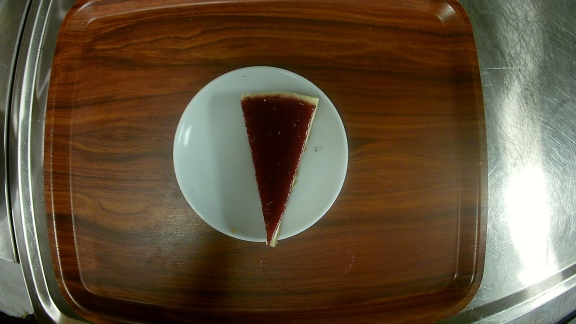frambuazlipasta: (172, 66, 349, 244)
